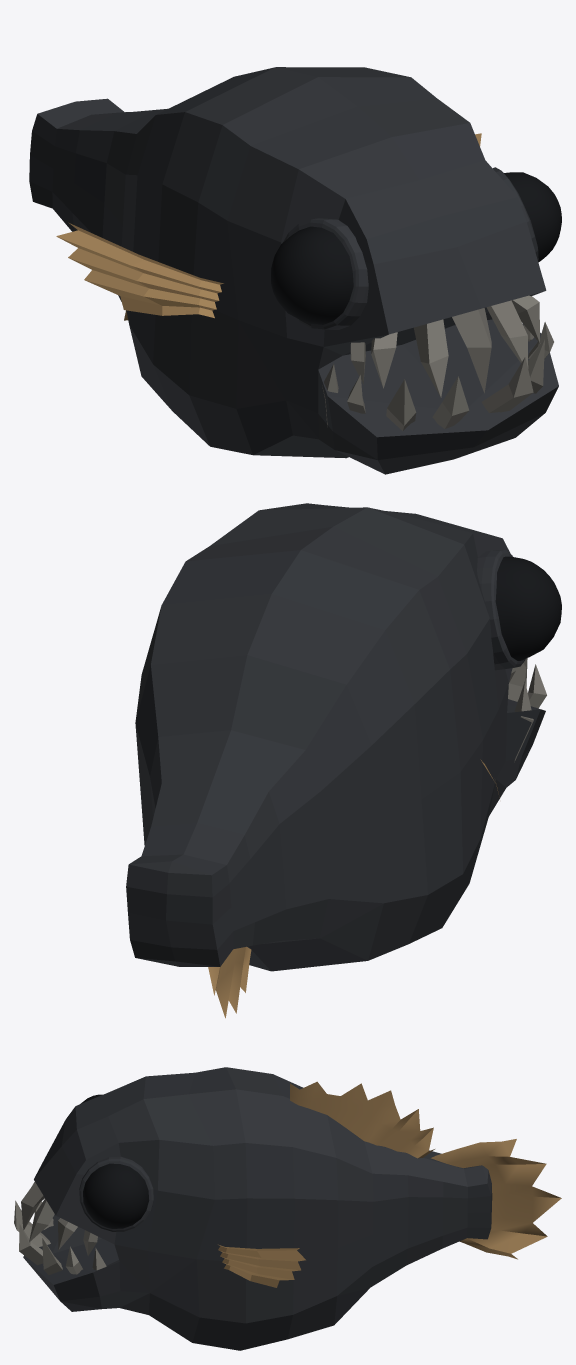
File: cc0-piranha-lod0.glb
3 renders of one model, top to bottom at view 1: azimuth 30°, elevation 25°; view 2: azimuth 150°, elevation 25°; view 3: azimuth 270°, elevation 25°, orthographic. The views are drawn at different scales.
Parts seen in each view (by area): view 1: part_0; view 2: part_0; view 3: part_0.
Part boxes in pixels (x1,y1,x2,y2): part_0: [29, 67, 561, 474]; part_0: [126, 503, 561, 1018]; part_0: [14, 1067, 561, 1350].
Size of the model in its own units: 3.12 by 2.4 by 4.74.
